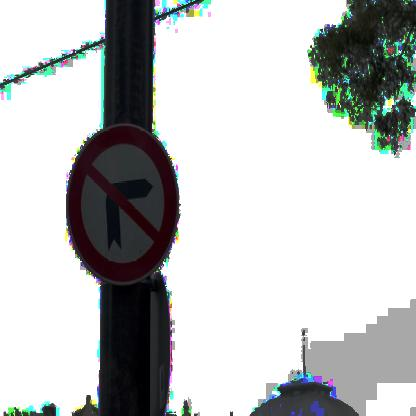No right turn: (65, 119, 179, 285)
